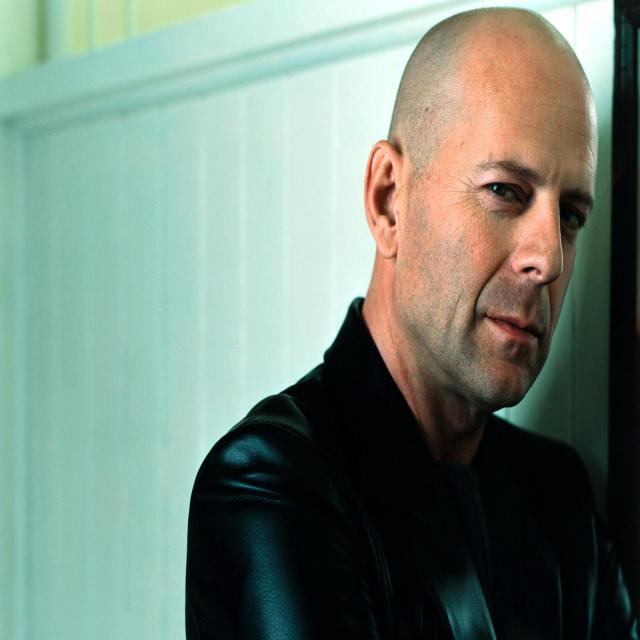no-earmuff: (355, 125, 425, 263)
